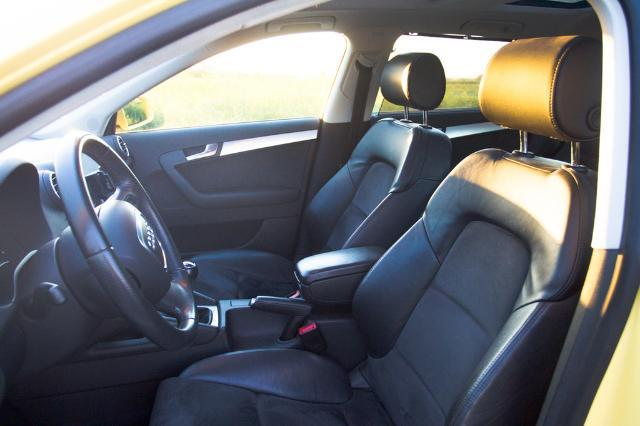Seatbelt: (340, 61, 372, 170)
